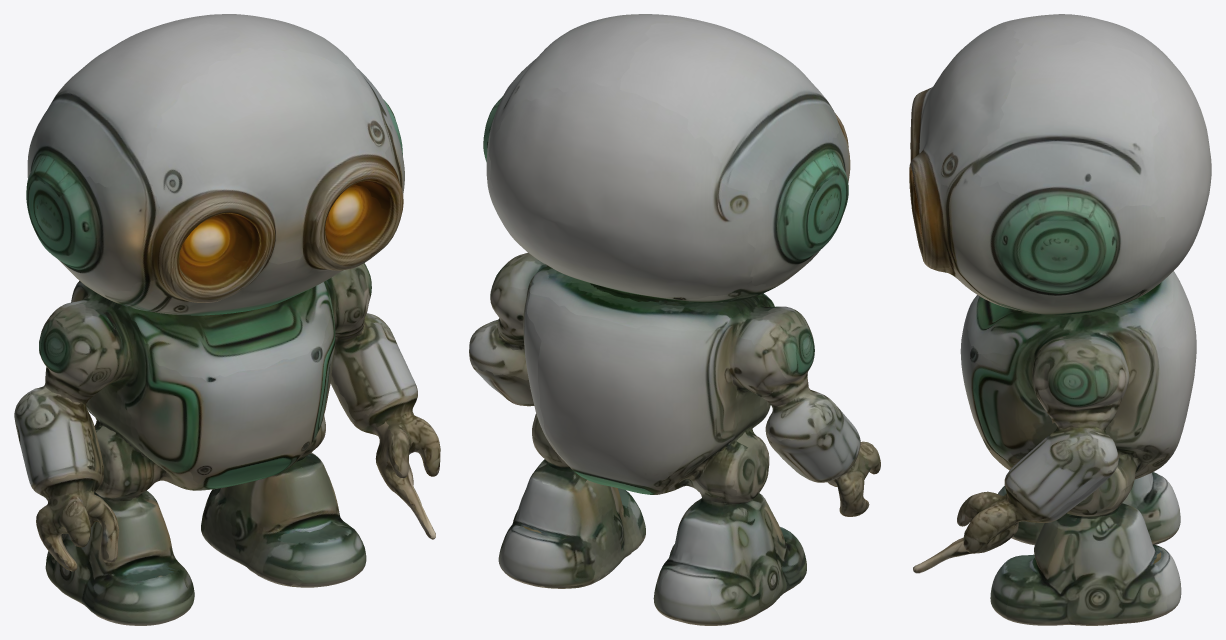
Rendered from futuristic_mini_robot_assistant.glb.
The picture shows the model from 3 angles, left to right: view 1: azimuth 30°, elevation 25°; view 2: azimuth 150°, elevation 25°; view 3: azimuth 270°, elevation 25°; orthographic projection. The views are drawn at different scales.
Parts seen in each view (by area): view 1: textured_mesh.obj_1; view 2: textured_mesh.obj_1; view 3: textured_mesh.obj_1.
Boxes of the visible parts, x1,y1,x2,y2 form: textured_mesh.obj_1: (14, 14, 440, 625); textured_mesh.obj_1: (469, 14, 880, 625); textured_mesh.obj_1: (909, 14, 1211, 625).
Size of the model in its own units: 1.42 by 1.99 by 1.03.
1 material, 1 textured.
